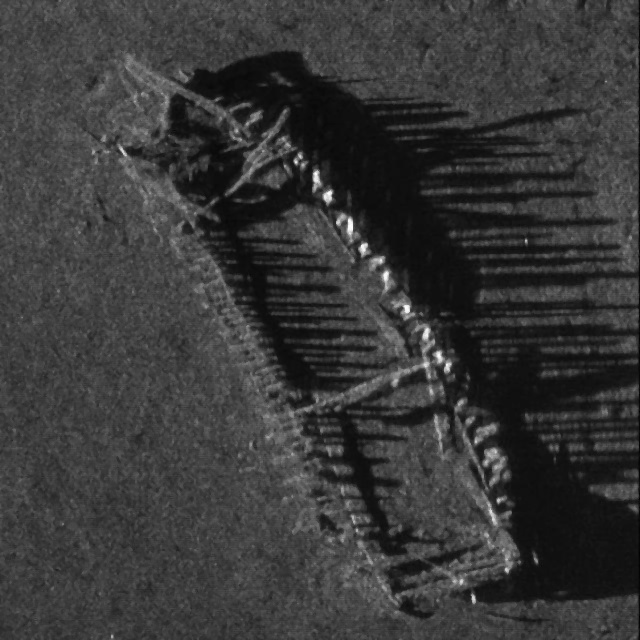Ship: (92, 38, 553, 626)
